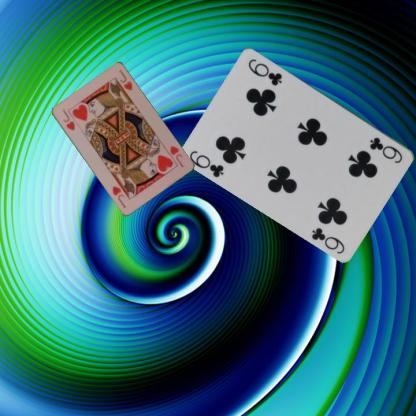6c: (187, 148, 226, 178), (367, 134, 404, 165)
Jh: (167, 143, 185, 169), (60, 106, 76, 132)
